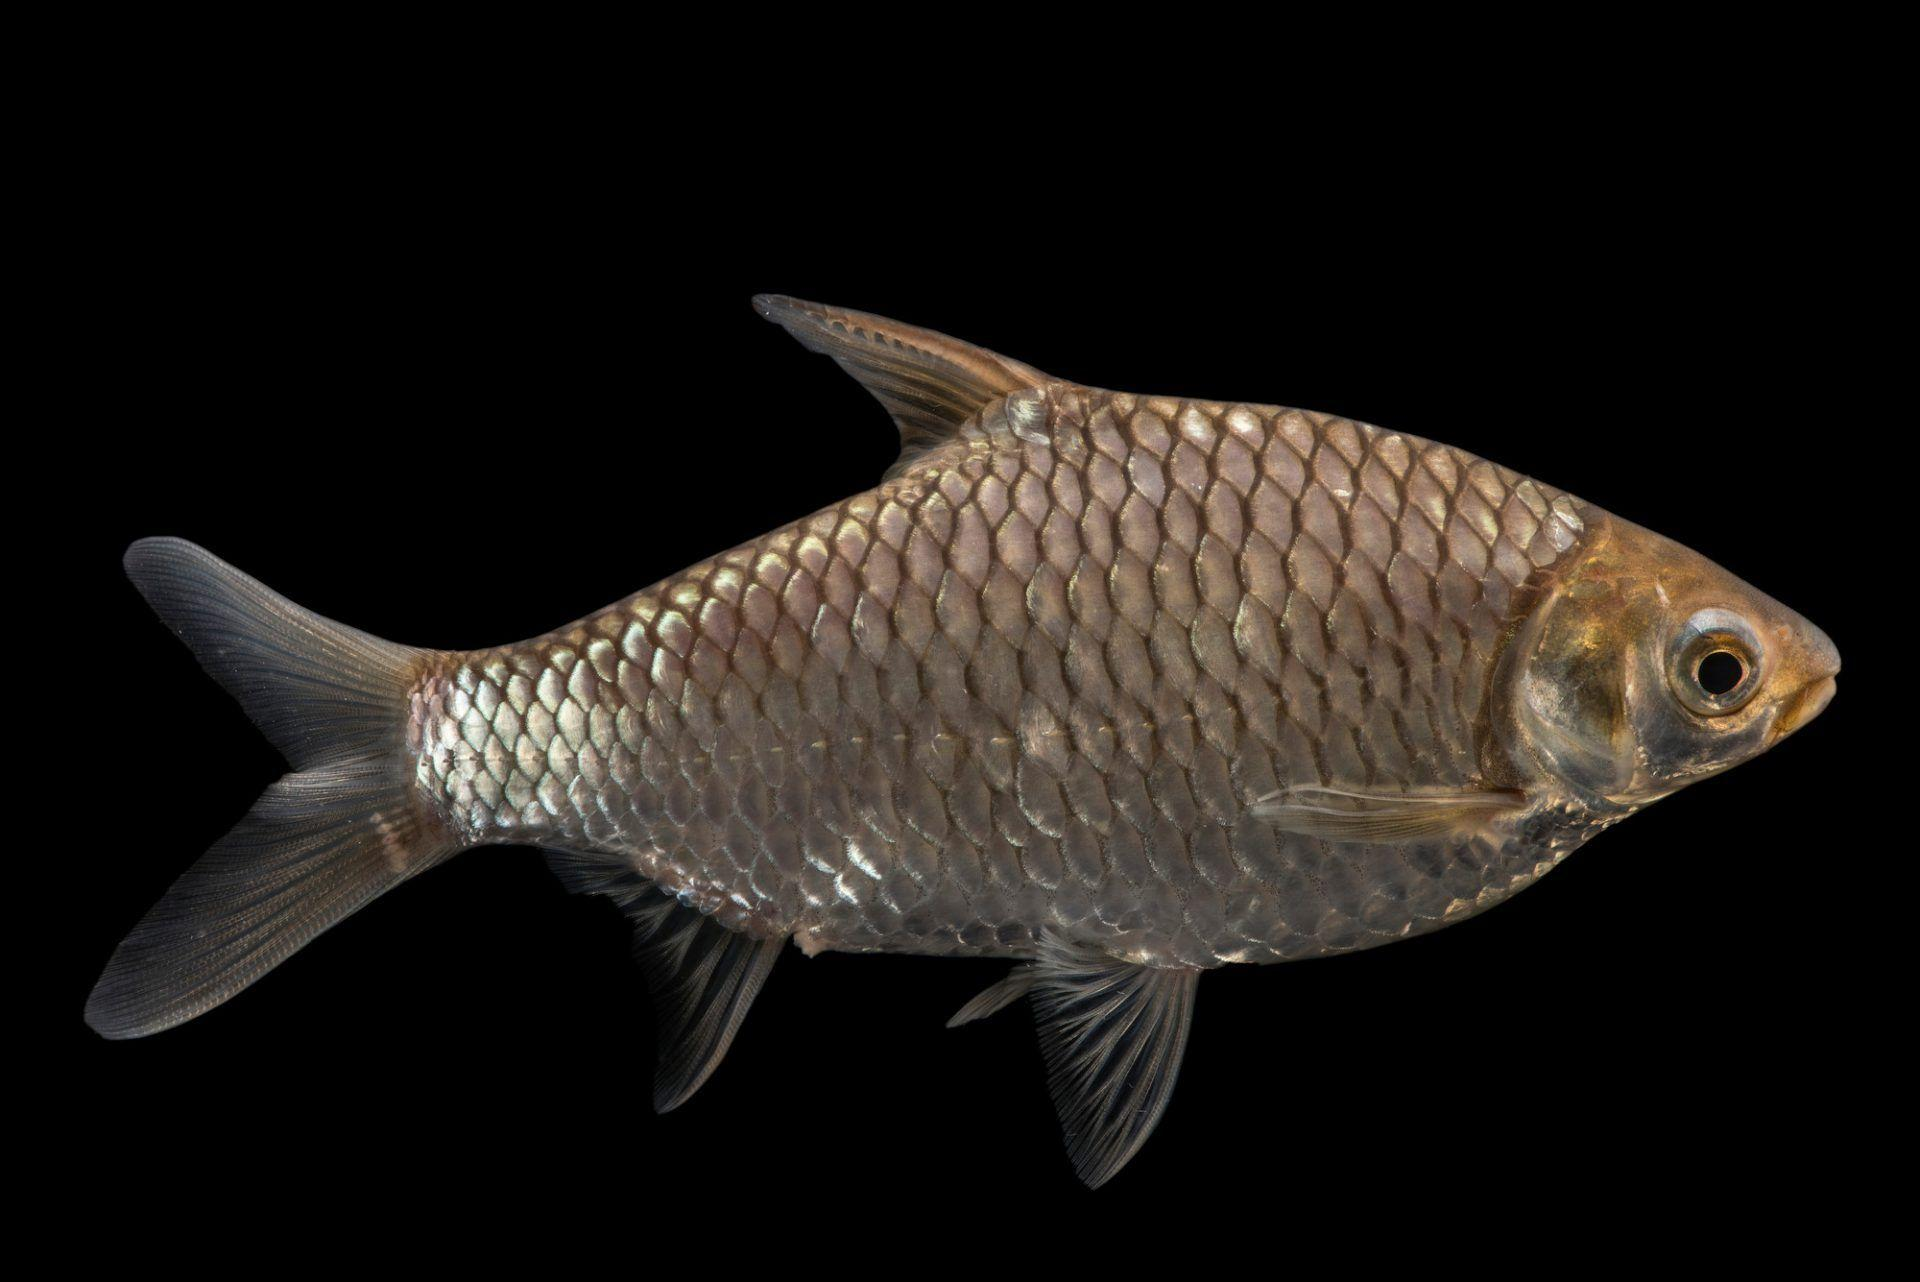Silver Barb: (97, 296, 1837, 1183)
